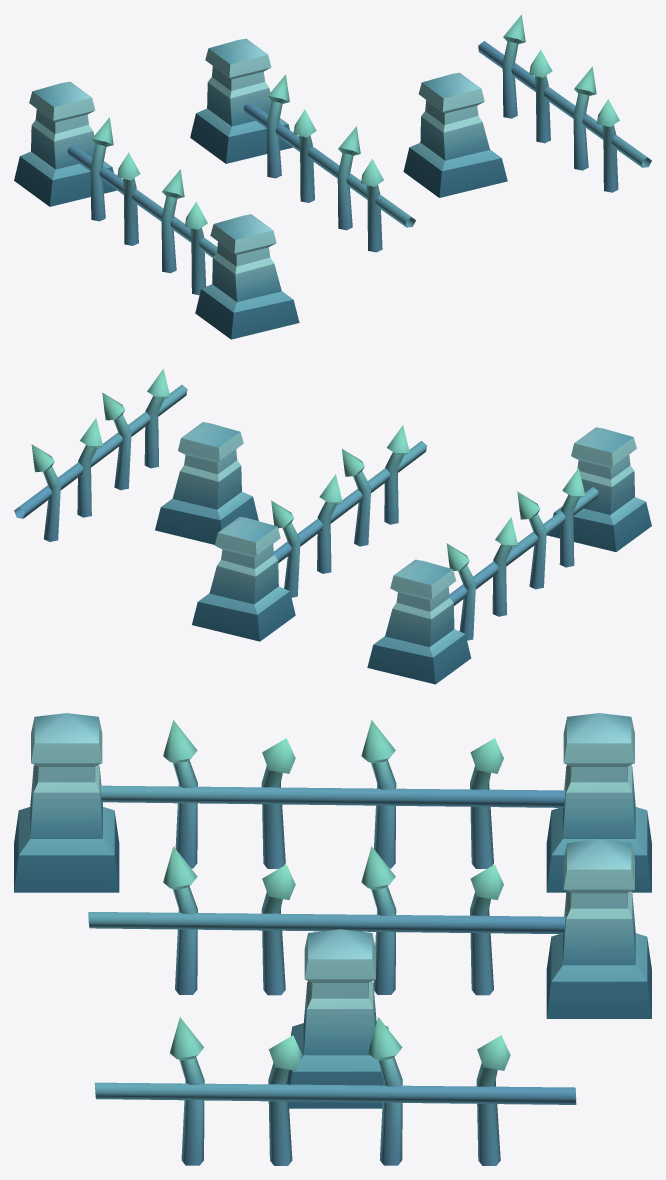
The model's file is Env_zombie_walls_prefabs_v01.fbx.
3 views of the same model, one above another, from view 1: azimuth 30°, elevation 25°; view 2: azimuth 150°, elevation 25°; view 3: azimuth 270°, elevation 25° (orthographic). The views are drawn at different scales.
Visible parts, largest first — view 1: Zombie_zone_wall_x2, Zombie_zone_wall_x1, Zombie_zone_wall_x1_stone, Zombie_zone_wall_Fence; view 2: Zombie_zone_wall_x2, Zombie_zone_wall_x1, Zombie_zone_wall_x1_stone, Zombie_zone_wall_Fence; view 3: Zombie_zone_wall_x2, Zombie_zone_wall_x1, Zombie_zone_wall_Fence, Zombie_zone_wall_x1_stone.
Part boxes in pixels (<box>): Zombie_zone_wall_x2: <box>14,81,299,339</box>; Zombie_zone_wall_x1: <box>190,38,415,252</box>; Zombie_zone_wall_x1_stone: <box>403,72,507,197</box>; Zombie_zone_wall_Fence: <box>478,14,651,192</box>; Zombie_zone_wall_x2: <box>367,427,651,684</box>; Zombie_zone_wall_x1: <box>192,425,426,641</box>; Zombie_zone_wall_x1_stone: <box>155,422,258,544</box>; Zombie_zone_wall_Fence: <box>14,369,187,541</box>; Zombie_zone_wall_x2: <box>14,713,651,892</box>; Zombie_zone_wall_x1: <box>88,839,651,1018</box>; Zombie_zone_wall_Fence: <box>94,1017,576,1165</box>; Zombie_zone_wall_x1_stone: <box>287,929,388,1108</box>.
Bounding box in the file's own units: 889 × 196 × 732.
